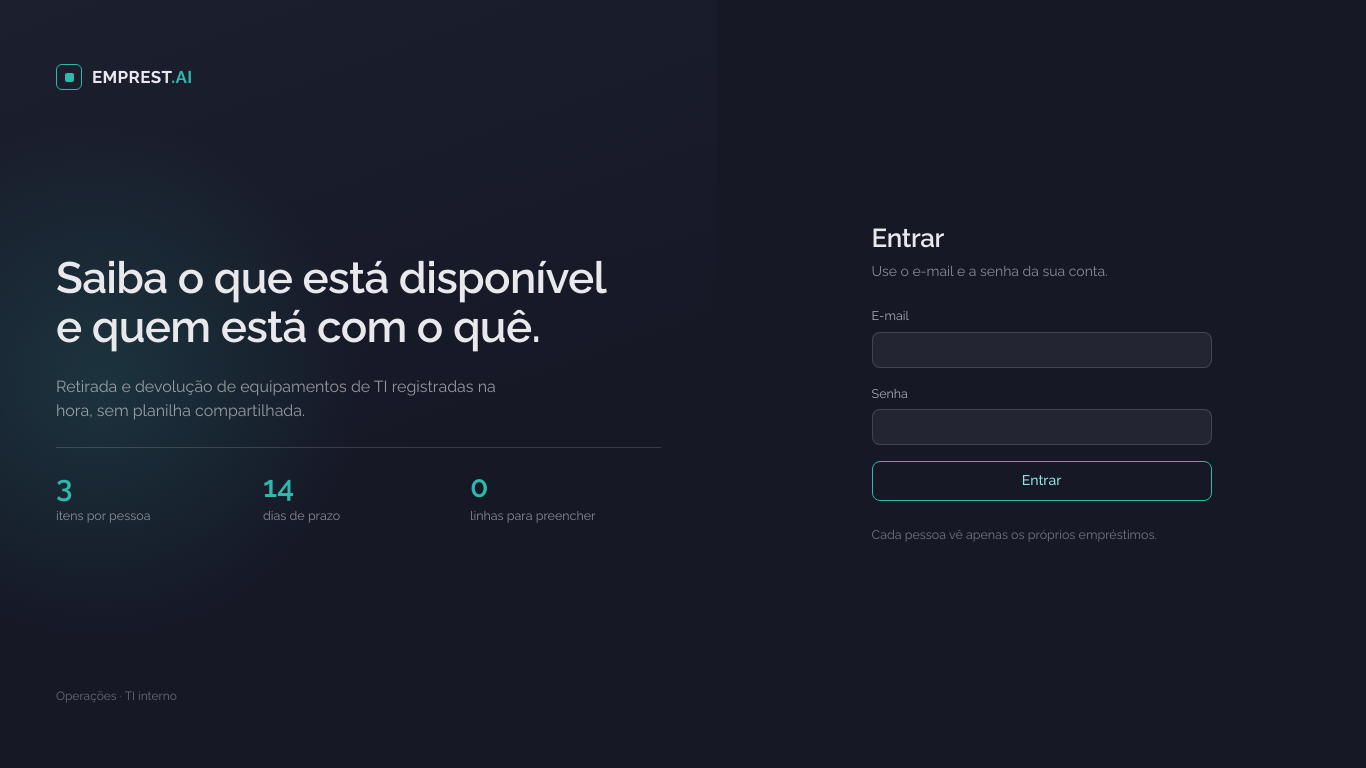
Test case: login › CA-2: com conta válida vai para /inicio com nome, iniciais, papel, abas do papel e Sair
Type "marcelo.grilo@institutojef.org.br" into the field labelled "E-mail".
click(1042, 350); type("marcelo.grilo@institutojef.org.br")  # box [872,332,1212,368]
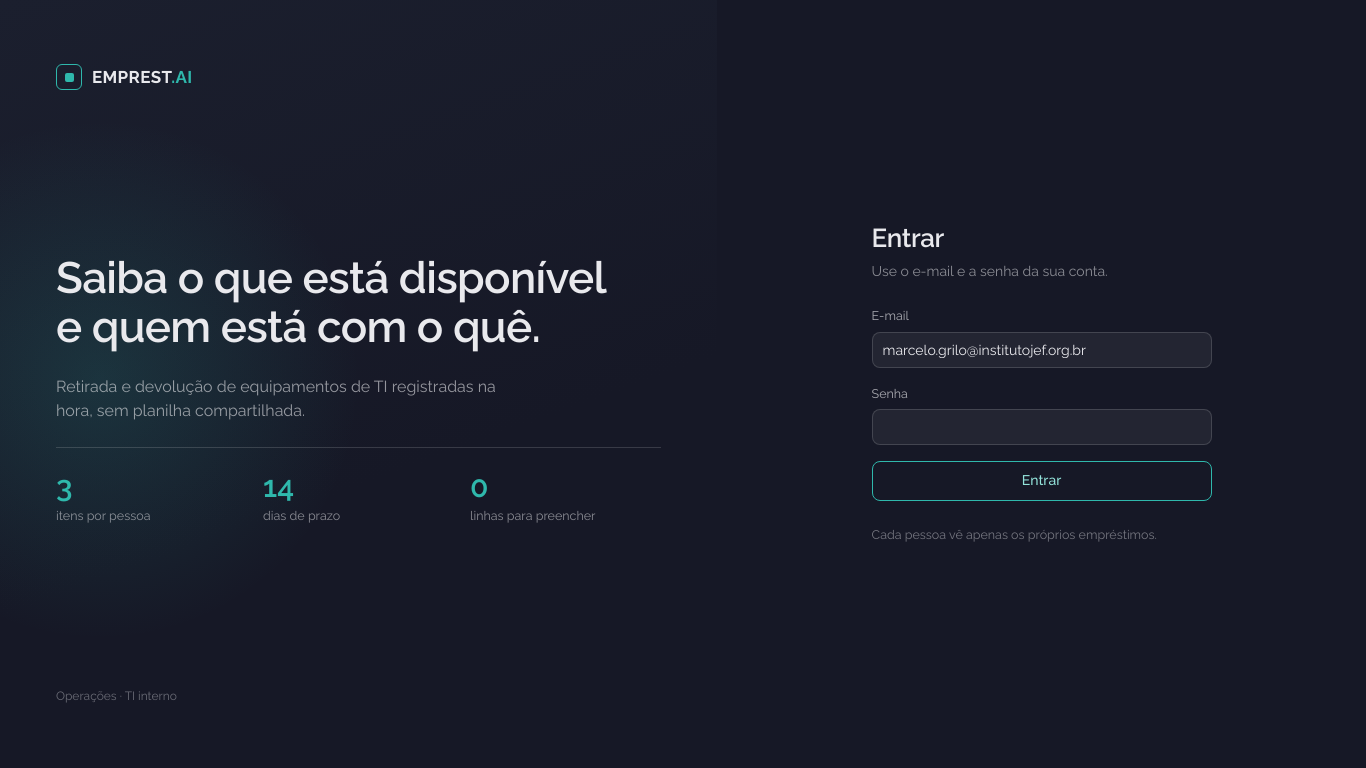
Type "senha-certa" into the password field labelled "Senha".
click(1042, 427); type("senha-certa")  # box [872,409,1212,445]
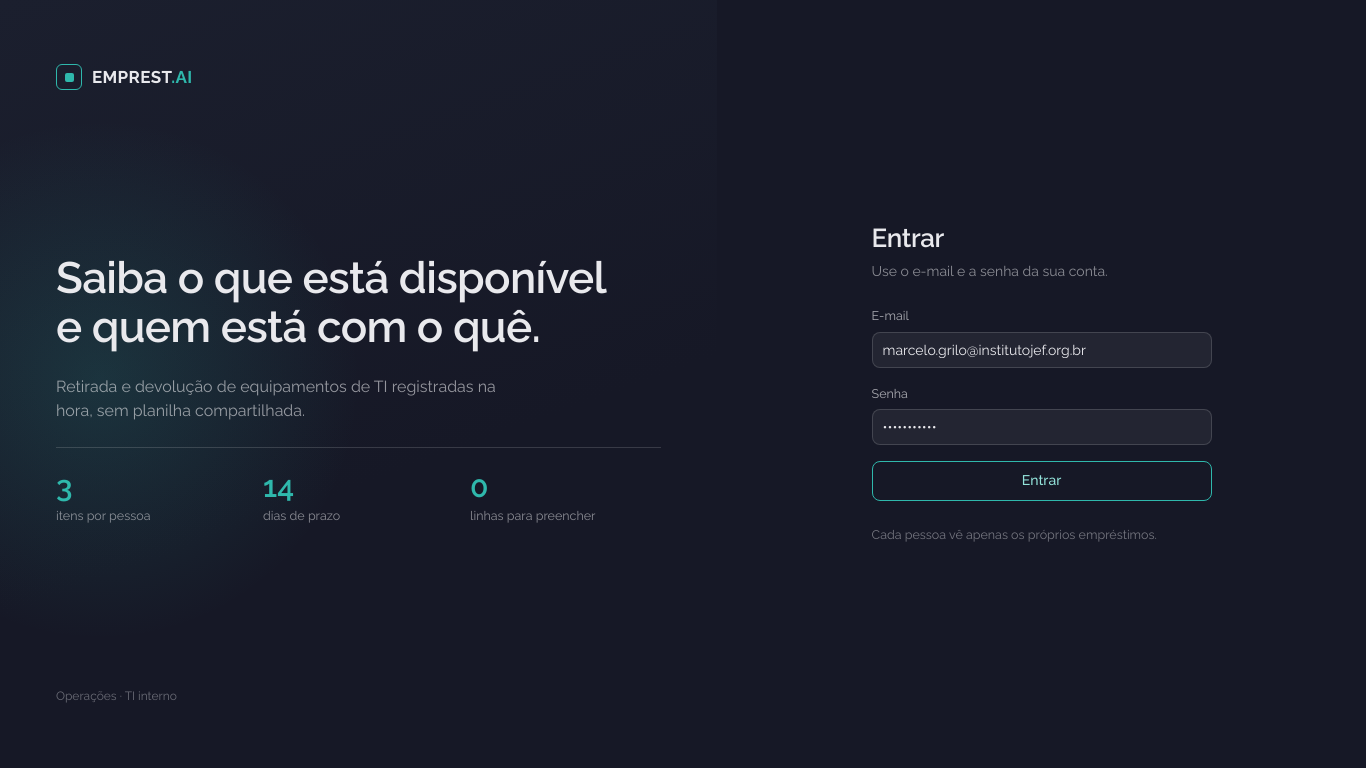
Click the button "Entrar".
click(1042, 481)  # box [872,461,1212,501]
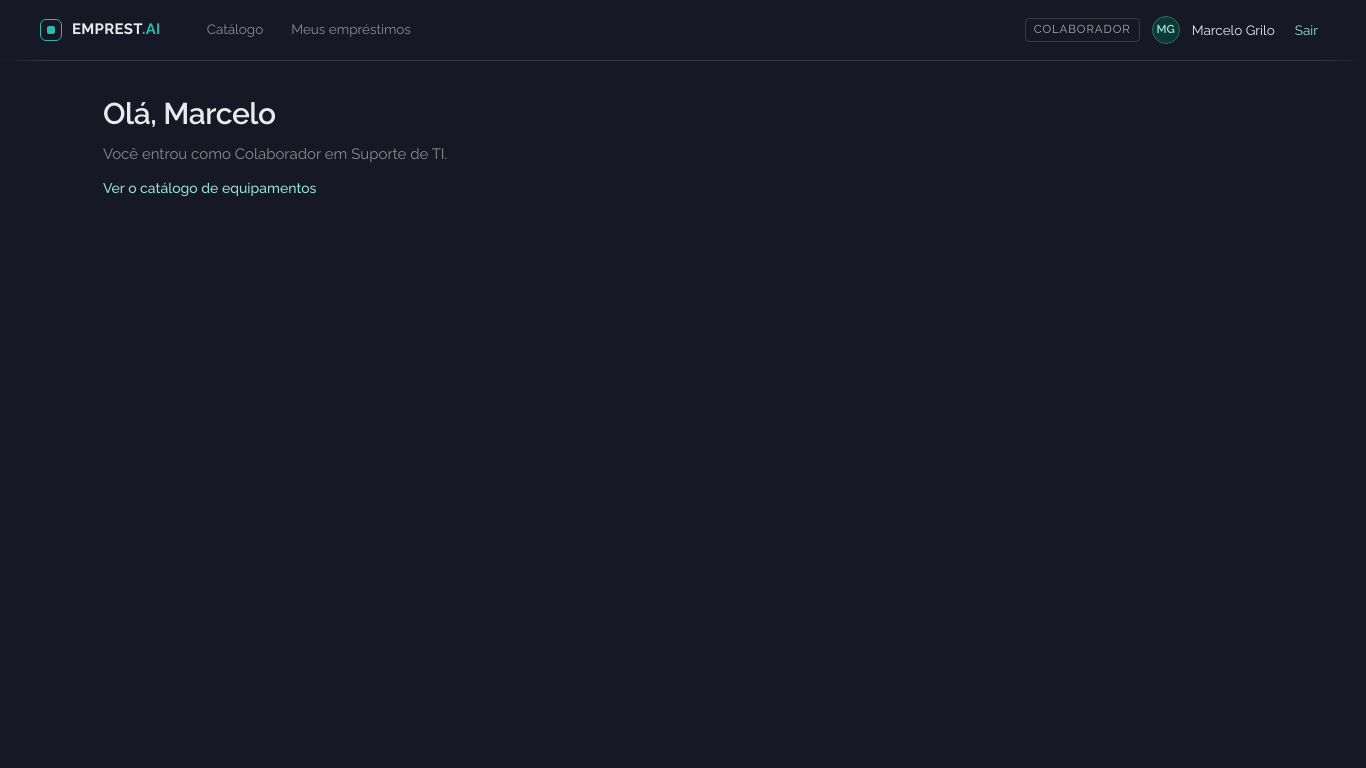
Expected: the heading "Olá, Marcelo" is shown, [103,97,276,131]
Expected: the text "Marcelo Grilo" is shown, [1192,20,1275,40]
Expected: the text "MG" is shown, [1152,16,1180,44]
